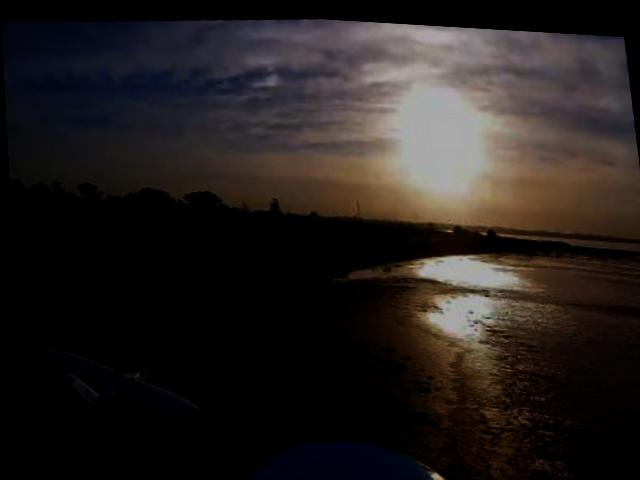uav: (36, 332, 197, 432)
